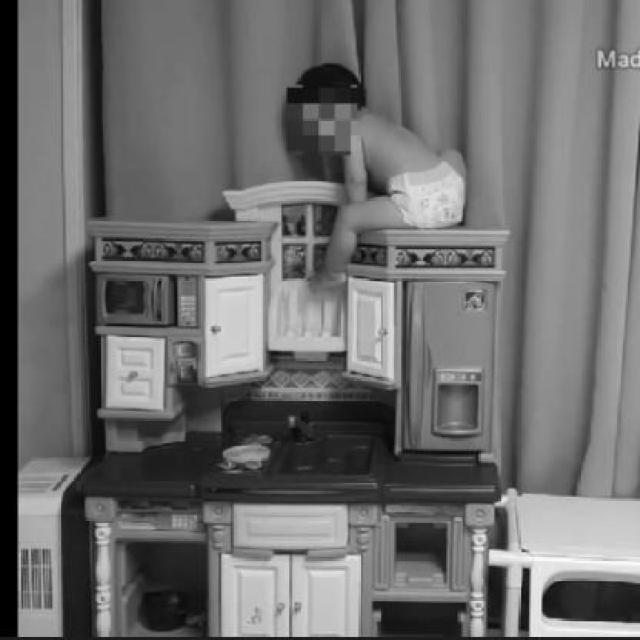child: (276, 71, 487, 484)
